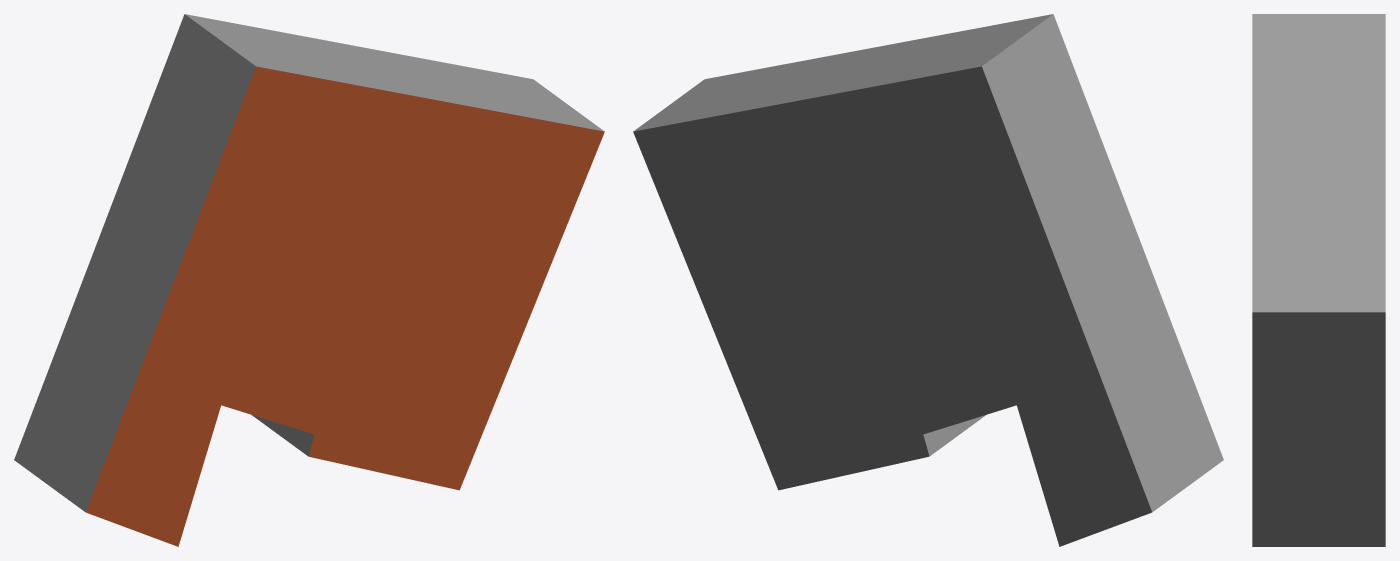
The model's file is construction_4376_assumed_A_Casa_h6m.obj.
The picture shows the model from 3 angles, left to right: view 1: azimuth 30°, elevation 25°; view 2: azimuth 150°, elevation 25°; view 3: azimuth 270°, elevation 25°; orthographic projection. The views are drawn at different scales.
Parts seen in each view (by area): view 1: construction_4376_assumed_A_Casa; view 2: construction_4376_assumed_A_Casa; view 3: construction_4376_assumed_A_Casa.
Part boxes in pixels (x1=…): construction_4376_assumed_A_Casa: x1=14, y1=14, x2=604, y2=546; construction_4376_assumed_A_Casa: x1=633, y1=14, x2=1223, y2=546; construction_4376_assumed_A_Casa: x1=1252, y1=14, x2=1385, y2=546.
Size of the model in its own units: 25.12 by 21.89 by 6.
